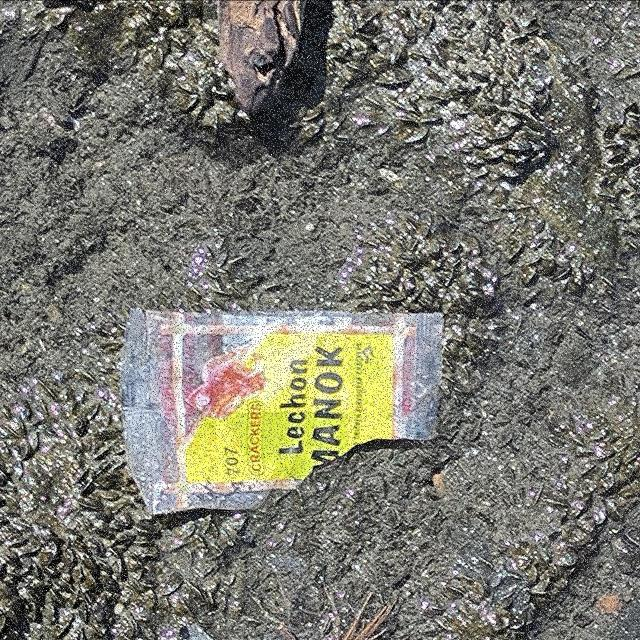plastic_waste: (126, 309, 445, 515)
